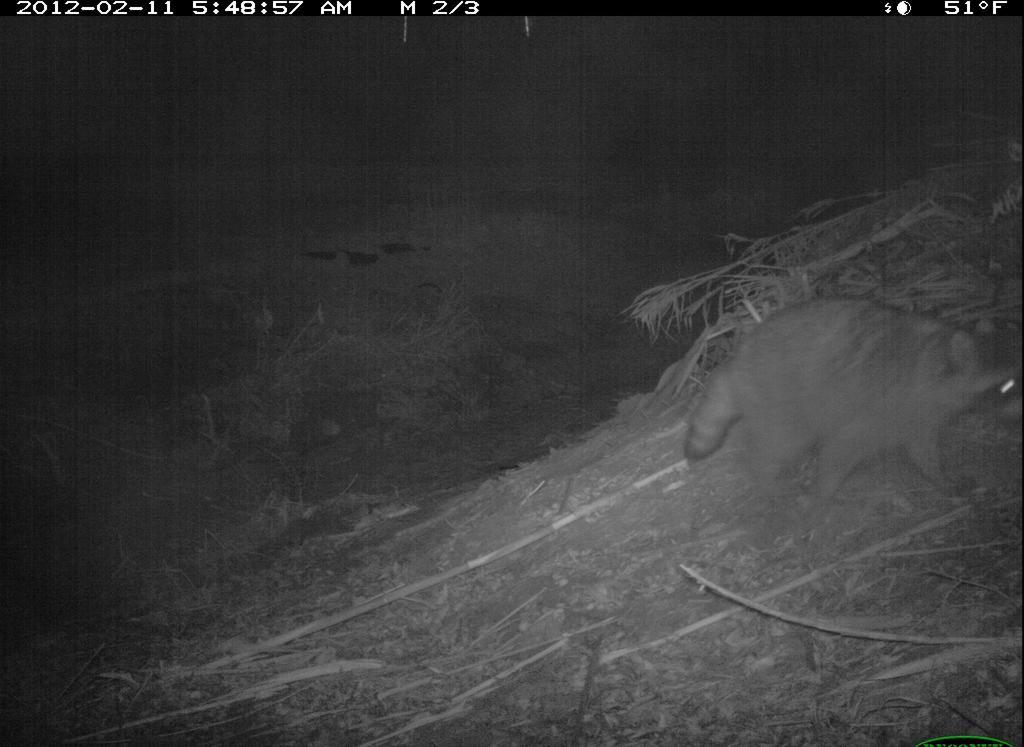raccoon: (683, 292, 1019, 505)
